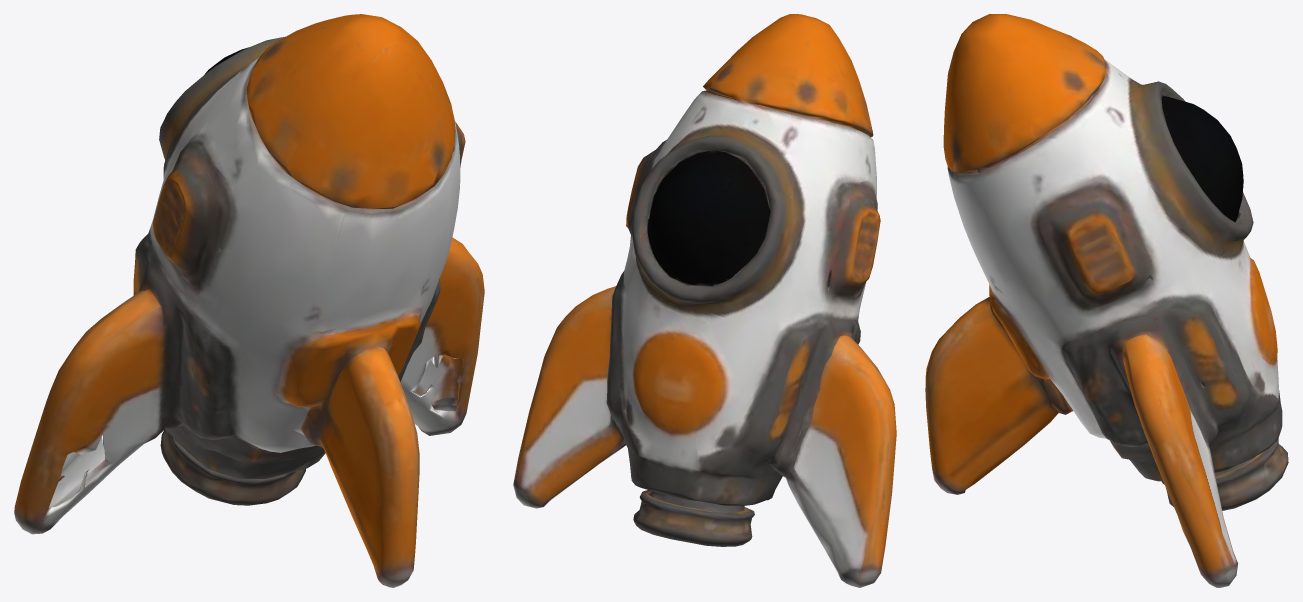
Rendered from rocket.glb.
The picture shows the model from 3 angles, left to right: view 1: azimuth 30°, elevation 25°; view 2: azimuth 150°, elevation 25°; view 3: azimuth 270°, elevation 25°; orthographic projection. The views are drawn at different scales.
Visible parts, largest first — view 1: world; view 2: world; view 3: world.
Part boxes in pixels (<box>): world: <box>14,14,484,587</box>; world: <box>513,14,896,587</box>; world: <box>925,14,1288,587</box>.
Size of the model in its own units: 0.3132 by 0.3744 by 0.254.
Materials: 1 (1 with a texture image).
